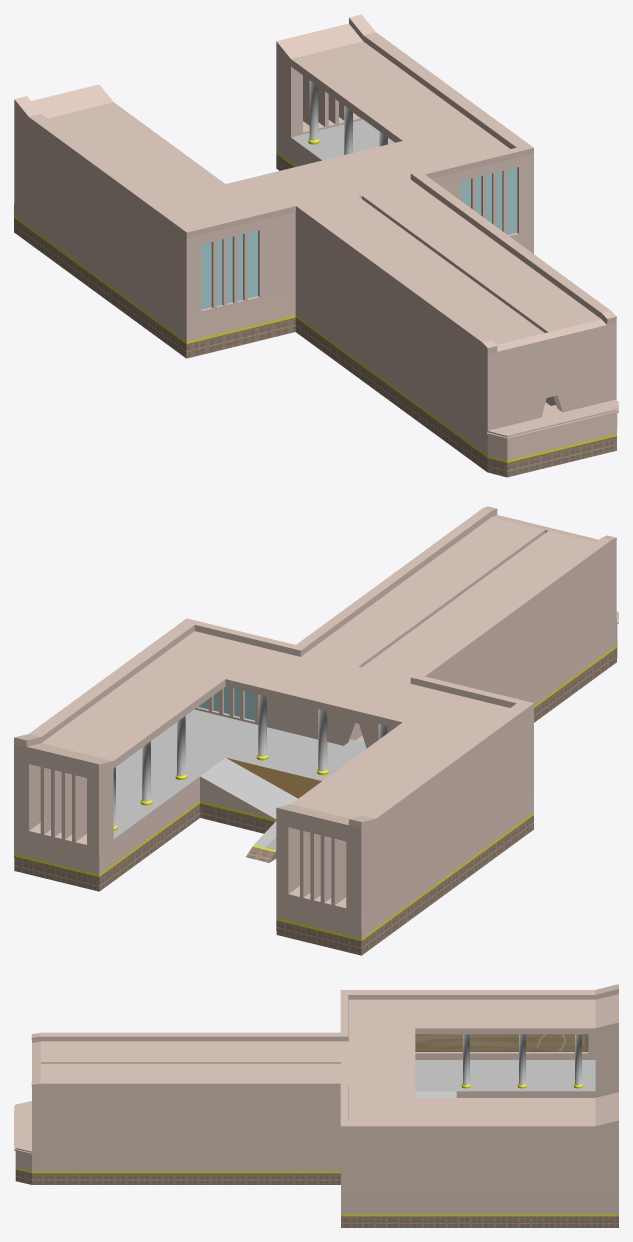
The model's file is temple_entry.fbx.
3 renders of one model, top to bottom at view 1: azimuth 30°, elevation 25°; view 2: azimuth 150°, elevation 25°; view 3: azimuth 270°, elevation 25°, orthographic. The views are drawn at different scales.
Visible parts, largest first — view 1: TempleEntry, templentry_pillars.001; view 2: TempleEntry, templentry_pillars, templentry_pillars.001; view 3: TempleEntry, templentry_pillars.002.
Part boxes in pixels (bbox=[...]): TempleEntry: bbox=[14, 14, 618, 477]; templentry_pillars.001: bbox=[308, 80, 387, 154]; TempleEntry: bbox=[14, 506, 618, 955]; templentry_pillars: bbox=[256, 694, 387, 775]; templentry_pillars.001: bbox=[113, 716, 187, 830]; TempleEntry: bbox=[14, 984, 618, 1227]; templentry_pillars.002: bbox=[461, 1034, 583, 1088].
Bounding box in the file's own units: 520 × 192 × 974.
